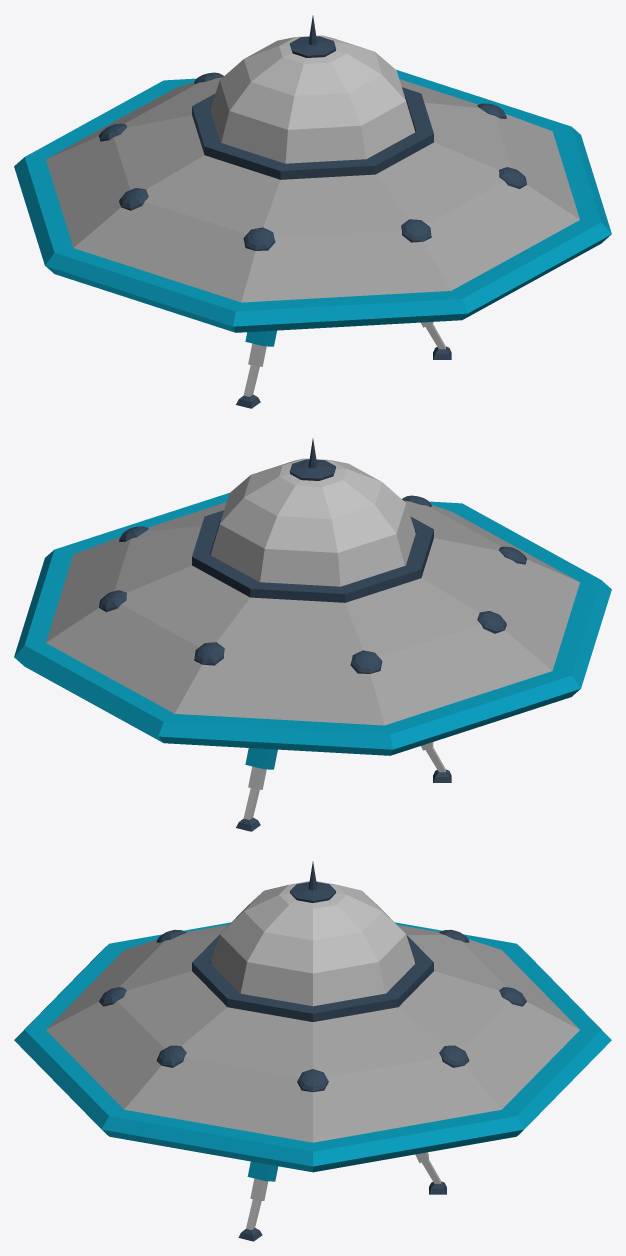
File: saucer.glb
The picture shows the model from 3 angles, top to bottom: view 1: azimuth 30°, elevation 25°; view 2: azimuth 150°, elevation 25°; view 3: azimuth 270°, elevation 25°; orthographic projection. The views are drawn at different scales.
Visible parts, largest first — view 1: saucer; view 2: saucer; view 3: saucer.
Boxes of the visible parts, left/top/right/bottom form: saucer: left=14, top=15, right=611, bottom=408; saucer: left=14, top=438, right=611, bottom=831; saucer: left=14, top=861, right=611, bottom=1241.
Bounding box in the file's own units: 2.24 × 1.36 × 2.24.
